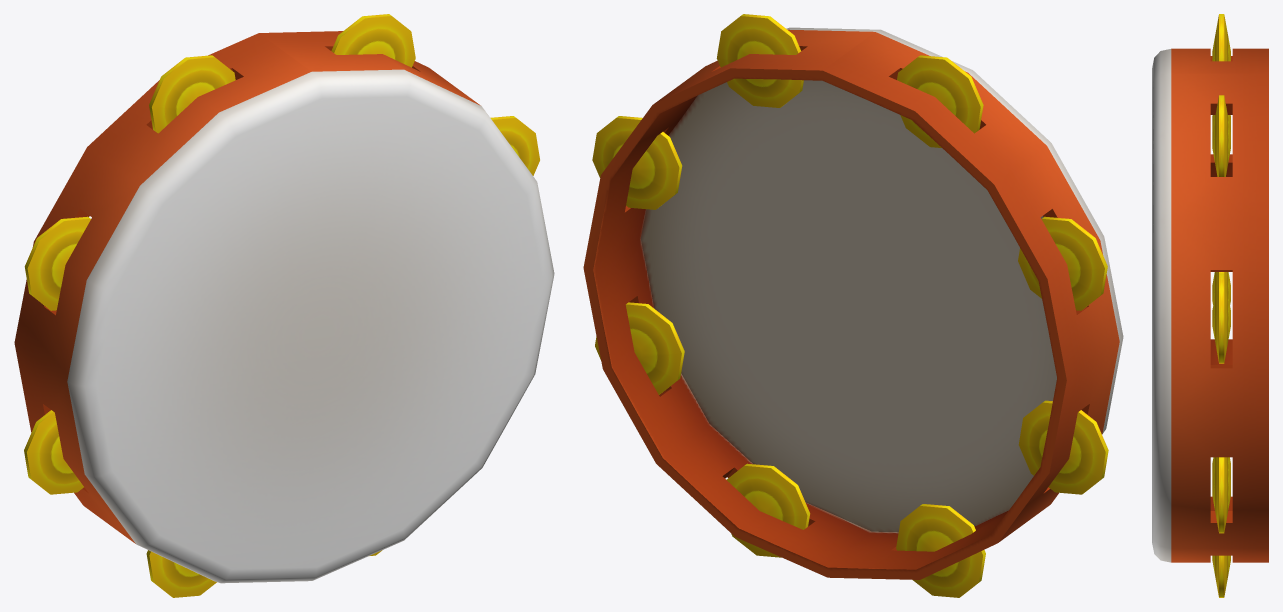
File: ENV2010076.fbx
3 views of the same model, side by side, from view 1: azimuth 30°, elevation 25°; view 2: azimuth 150°, elevation 25°; view 3: azimuth 270°, elevation 25° (orthographic). The views are drawn at different scales.
Parts seen in each view (by area): view 1: smENV2010076; view 2: smENV2010076; view 3: smENV2010076.
Boxes of the visible parts, box(x1,y1,x2,y2) form: smENV2010076: box(14, 14, 554, 597); smENV2010076: box(583, 14, 1123, 597); smENV2010076: box(1152, 14, 1268, 597).
Bounding box in the file's own units: 21.59 × 21.76 × 4.61.
1 material, 1 textured.
